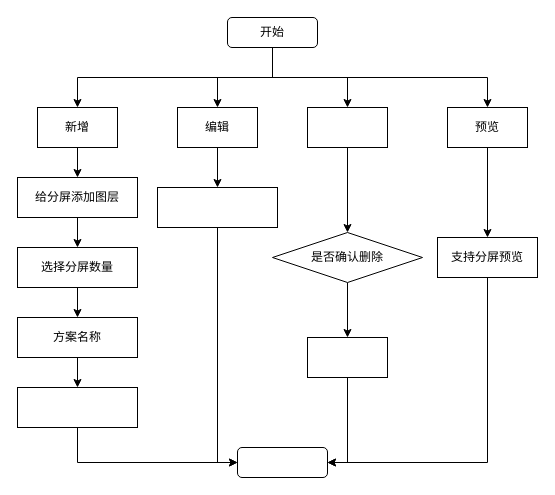
Image size: 555x495. Some labels were removed from this diagram. Each missing label, with the centre of its shape:
"保存方案" belongs at point (77, 407).
"删除" belongs at point (347, 127).
"删除成功" belongs at point (347, 357).
"结束" belongs at point (282, 462).
"编辑方案信息" belongs at point (217, 207).
